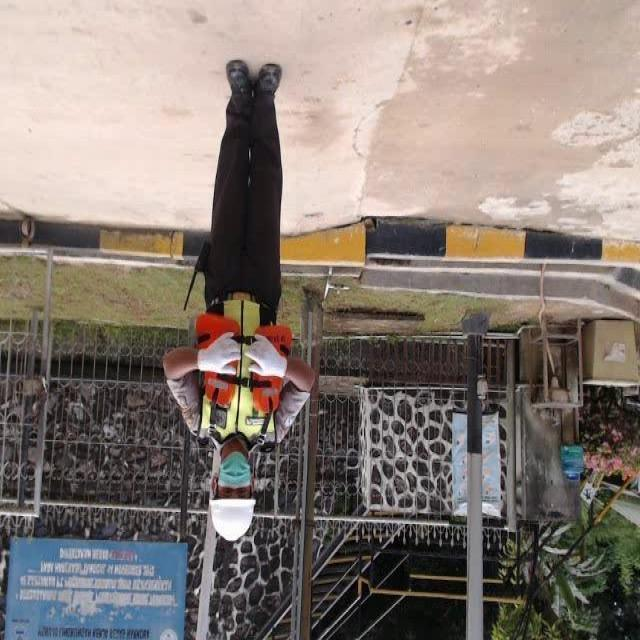gloves: (245, 334, 291, 384), (198, 333, 241, 378)
